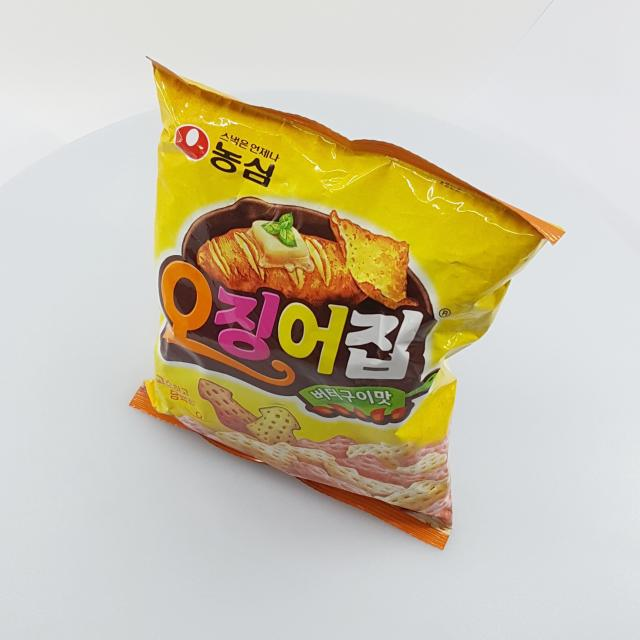-83G: (129, 56, 567, 551)
